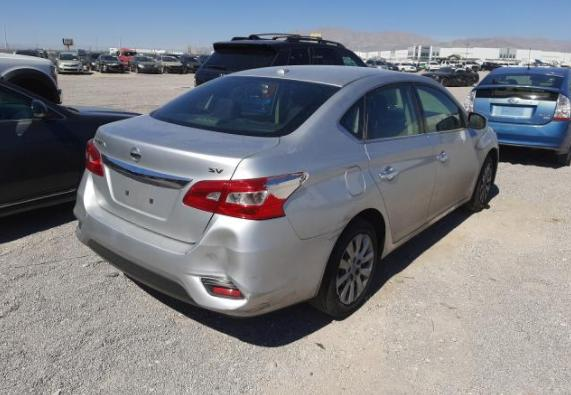Back-bumper: (72, 170, 345, 317)
Back-door: (363, 82, 436, 243)
Back-wheel: (308, 217, 379, 316)
Back-window: (367, 84, 424, 139), (339, 95, 364, 140)
Back-windshield: (149, 76, 342, 137)
Fender: (471, 126, 499, 199)
Front-door: (410, 82, 477, 222)
Front-wheel: (464, 155, 494, 211)
Front-window: (415, 85, 465, 131)
Mirror: (468, 112, 488, 130)
Quarter-panel: (231, 124, 394, 250)
Rocker-panel: (381, 195, 471, 261)
Roof: (224, 65, 392, 88)
Tail-light: (216, 172, 307, 220), (183, 180, 229, 212), (92, 144, 103, 176), (85, 139, 93, 173)
Trunk: (91, 115, 281, 245)
